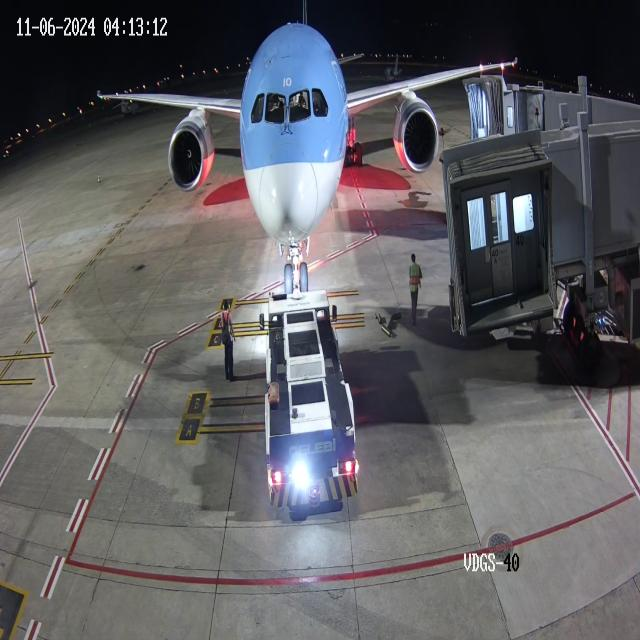bridge: (492, 69, 546, 144)
plane: (86, 12, 437, 289)
window: (246, 78, 338, 132)
